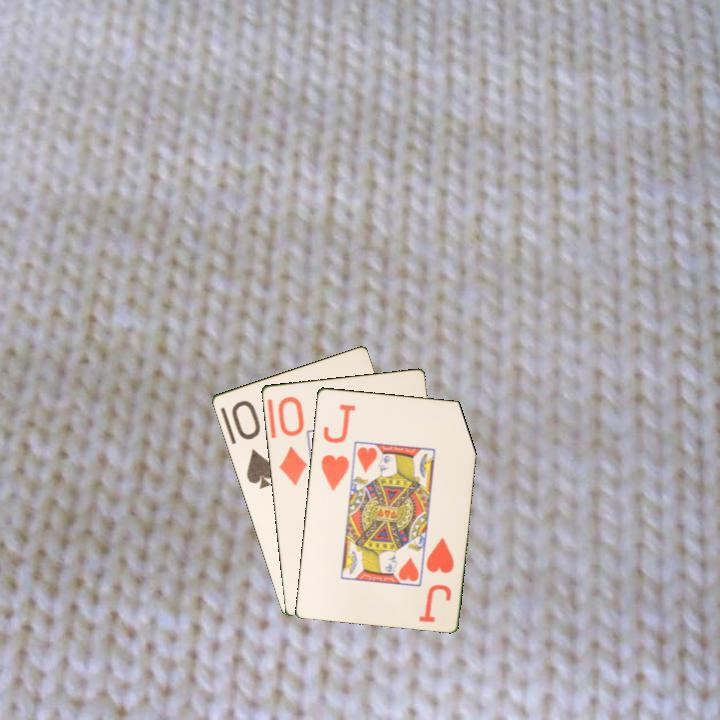10d: (274, 392, 310, 488)
10s: (228, 396, 277, 492)
Jh: (317, 400, 357, 494), (422, 534, 457, 576)
